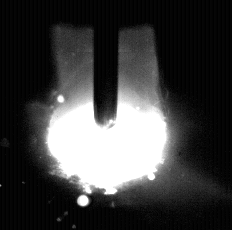arame: (95, 0, 118, 130)
poca: (46, 0, 168, 230)
